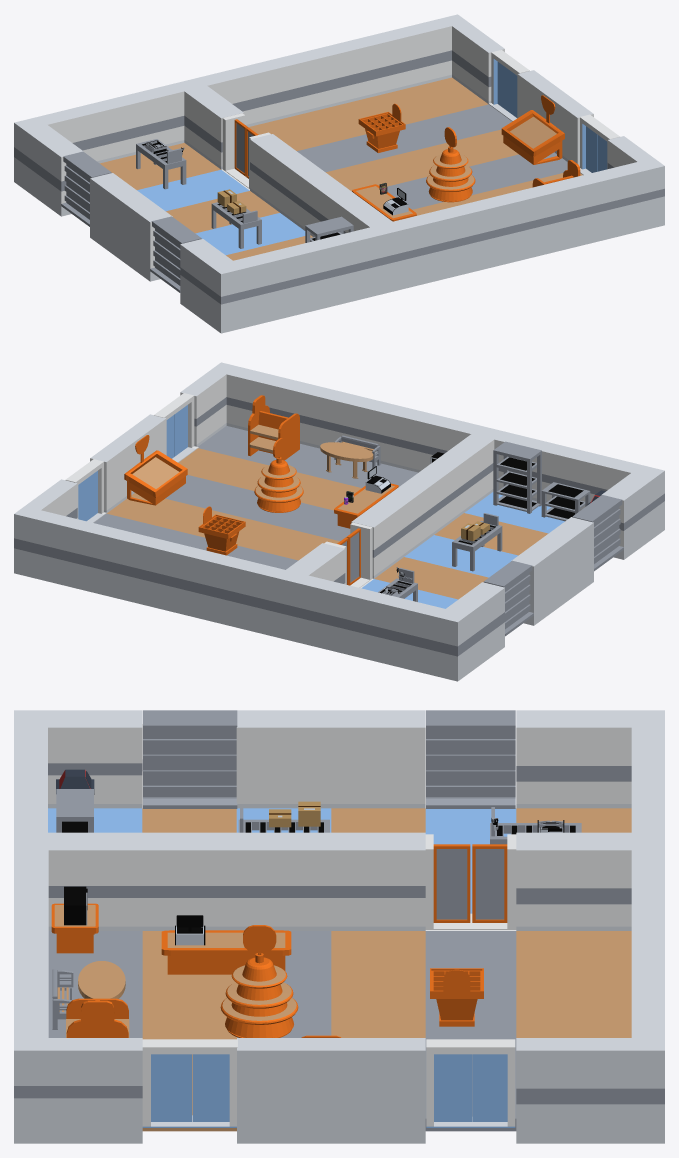
The model's file is Mart_environment.fbx.
3 views of the same model, one above another, from view 1: azimuth 30°, elevation 25°; view 2: azimuth 150°, elevation 25°; view 3: azimuth 270°, elevation 25° (orthographic). The views are drawn at different scales.
Visible parts, largest first — view 1: Floor, Shelf_D, Shelf_B, Shelf_C, Unpacking_Station_Level2, Interior_Door_Frame, Door_RollUp_Left, Unpacking_Station, Door_RollUp_Frame_Left, Door_RollUp_Right, Door_Frame_Front_Left, Door_RollUp_Frame_Right (+6 smaller); view 2: Floor, Shelf_Level2, Shelf_D, Shelf_B, Shelf_A, Shelf_Level1, Shelf_C, Table_Top, Unpacking_Station, Door_RollUp_Left, Table, Door_RollUp_Right (+10 smaller); view 3: Floor, Door_RollUp_Left, Door_RollUp_Right, Interior_Door, Shelf_B, Door_Front_Right, Door_Front_Left, Table_Top, Door_RollUp_Frame_Left, Door_Frame_Front_Right, Door_RollUp_Frame_Right, Door_Frame_Front_Left (+11 smaller).
Boxes of the visible parts, x1,y1,x2,y2 form: Floor: (14, 14, 664, 333); Shelf_D: (501, 95, 564, 164); Shelf_B: (426, 127, 475, 202); Shelf_C: (358, 103, 405, 152); Unpacking_Station_Level2: (136, 139, 186, 189); Interior_Door_Frame: (222, 113, 270, 188); Door_RollUp_Left: (153, 229, 180, 285); Unpacking_Station: (211, 202, 261, 248); Door_RollUp_Frame_Left: (150, 216, 201, 292); Door_RollUp_Right: (64, 164, 89, 219); Door_Frame_Front_Left: (489, 50, 529, 121); Door_RollUp_Frame_Right: (61, 151, 111, 226); Floor: (14, 362, 664, 681); Shelf_Level2: (493, 441, 541, 513); Shelf_D: (124, 435, 187, 505); Shelf_B: (254, 438, 303, 512); Shelf_A: (248, 395, 299, 460); Shelf_Level1: (541, 482, 590, 521); Shelf_C: (198, 506, 245, 555); Table_Top: (334, 483, 398, 528); Unpacking_Station: (452, 513, 502, 571); Door_RollUp_Left: (594, 507, 620, 563); Table: (320, 442, 373, 478); Door_RollUp_Right: (505, 573, 530, 629); Floor: (14, 710, 664, 1143); Door_RollUp_Left: (143, 733, 236, 797); Door_RollUp_Right: (426, 733, 515, 797); Interior_Door: (433, 844, 507, 922); Shelf_B: (220, 925, 298, 1037); Door_Front_Right: (151, 1054, 229, 1121); Door_Front_Left: (434, 1054, 507, 1121); Table_Top: (161, 930, 291, 974); Door_RollUp_Frame_Left: (143, 710, 237, 808); Door_Frame_Front_Right: (142, 1039, 237, 1127); Door_RollUp_Frame_Right: (426, 710, 515, 808); Door_Frame_Front_Left: (426, 1039, 515, 1127).
Size of the model in its own units: 16090 by 2507 by 13005.
